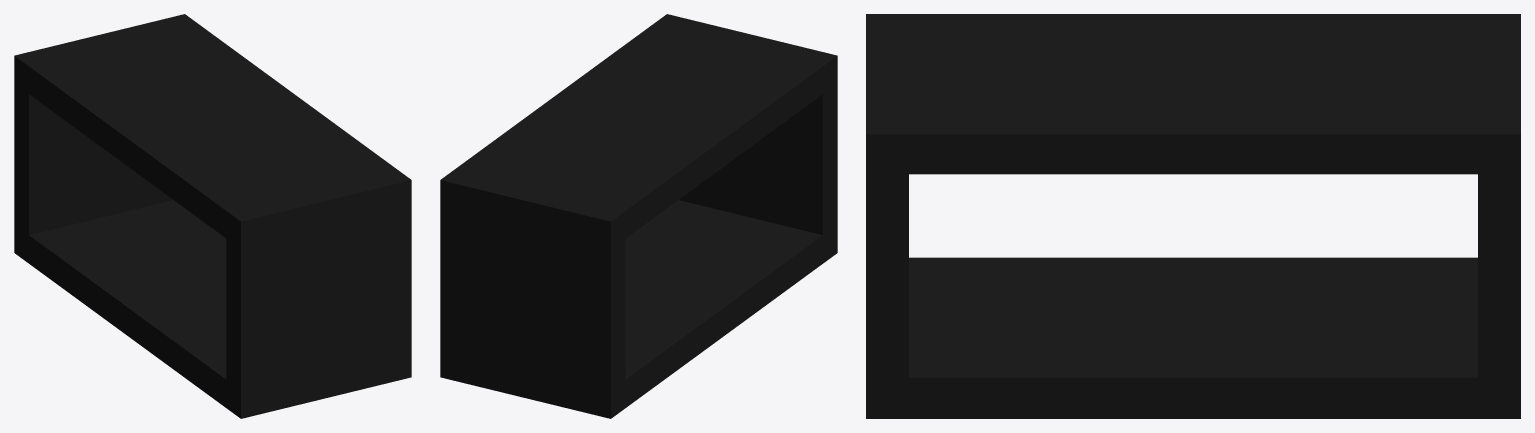
The model's file is Shelf_01.fbx.
3 renders of one model, left to right at view 1: azimuth 30°, elevation 25°; view 2: azimuth 150°, elevation 25°; view 3: azimuth 270°, elevation 25°, orthographic. The views are drawn at different scales.
Parts seen in each view (by area): view 1: Cube; view 2: Cube; view 3: Cube.
Part boxes in pixels (<box>): Cube: <box>14,14,411,418</box>; Cube: <box>440,14,837,418</box>; Cube: <box>866,14,1520,418</box>.
Size of the model in its own units: 40 by 44.2 by 92.09.
